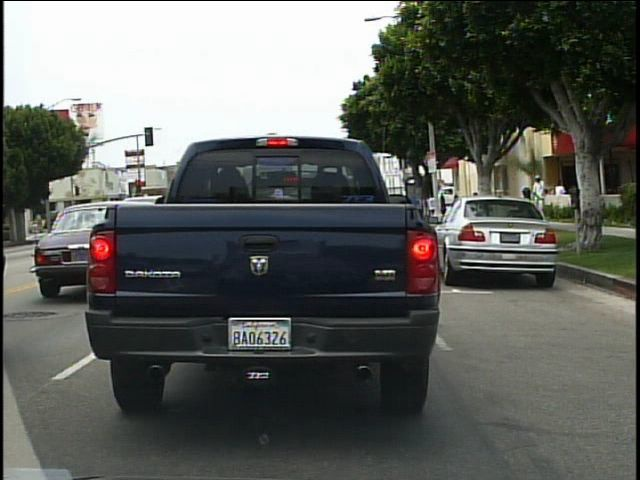person: (528, 172, 552, 222), (551, 177, 570, 220)
